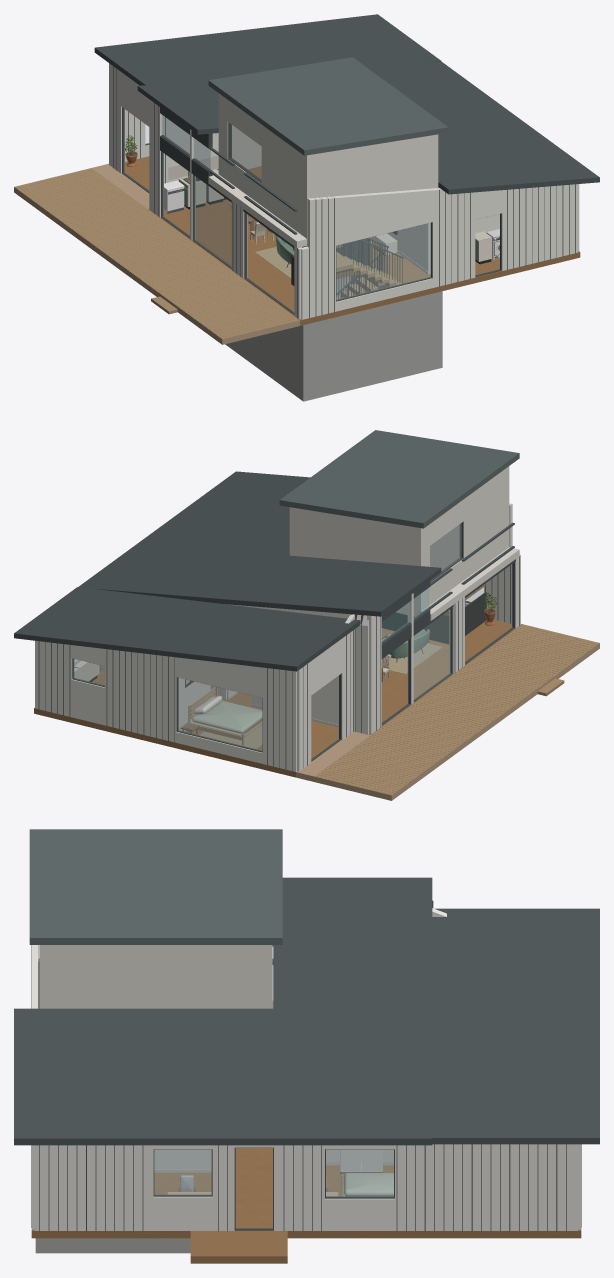
The picture shows the model from 3 angles, top to bottom: view 1: azimuth 30°, elevation 25°; view 2: azimuth 150°, elevation 25°; view 3: azimuth 270°, elevation 25°; orthographic projection. The views are drawn at different scales.
Visible parts, largest first — view 1: Living wing shed roof, Raised office shed roof, Master wing shed roof, Basement retaining concept 2, Office enclosing wall 3, ground/left/pier-0, ground/left/glass-1, ground/left/header-1, ground/left/pier-1, ground/left/end, Main slab split 1, Basement retaining concept 0 (+27 smaller); view 2: Living wing shed roof, Master wing shed roof, Raised office shed roof, ground/right/pier-1, Office enclosing wall 4, ground/right/glass-1, Main slab split 1, ground/right/end, ground/right/pier-0, ground/rear-living/glass-1, ground/right/header-1, Office east wall high (+31 smaller); view 3: Living wing shed roof, Master wing shed roof, Raised office shed roof, ground/front/end, Office enclosing wall 2, ground/front/pier-0, Main slab split 1, ground/front/pier-2, front-porch, ground/front/glass-2, ground/front/glass-0, ground/front/sill-2 (+7 smaller).
Boxes of the visible parts, x1,y1,x2,y2 form: Living wing shed roof: (137, 61, 599, 194); Raised office shed roof: (208, 57, 448, 155); Master wing shed roof: (94, 14, 440, 85); Basement retaining concept 2: (310, 293, 435, 393); Office enclosing wall 3: (311, 135, 434, 198); ground/left/pier-0: (501, 184, 578, 270); ground/left/glass-1: (336, 223, 430, 299); ground/left/header-1: (334, 188, 432, 245); ground/left/pier-1: (431, 188, 475, 287); ground/left/end: (300, 196, 335, 319); Main slab split 1: (125, 156, 402, 287); Basement retaining concept 0: (232, 323, 309, 394); Living wing shed roof: (78, 471, 441, 616); Master wing shed roof: (14, 587, 360, 671); Raised office shed roof: (279, 430, 519, 528); ground/right/pier-1: (105, 649, 176, 742); Office enclosing wall 4: (293, 508, 416, 616); ground/right/glass-1: (178, 678, 262, 750); Main slab split 1: (34, 628, 449, 777); ground/right/end: (263, 667, 296, 771); ground/right/pier-0: (36, 641, 72, 717); ground/rear-living/glass-1: (414, 609, 450, 699); ground/right/header-1: (176, 657, 262, 697); Office east wall high: (417, 466, 509, 552); Living wing shed roof: (14, 877, 432, 1145); Master wing shed roof: (432, 908, 599, 1144); Raised office shed roof: (29, 829, 282, 944); ground/front/end: (395, 1144, 577, 1230); Office enclosing wall 2: (39, 945, 272, 1008); ground/front/pier-0: (34, 1145, 153, 1230); Main slab split 1: (133, 1148, 581, 1238); ground/front/pier-2: (274, 1145, 324, 1230); front-porch: (190, 1231, 287, 1263); ground/front/glass-2: (326, 1150, 393, 1196); ground/front/glass-0: (154, 1150, 211, 1194); ground/front/sill-2: (325, 1198, 394, 1230).
Size of the model in its own units: 15.77 by 9.4 by 14.95.
Materials: 146 (18 with a texture image).
